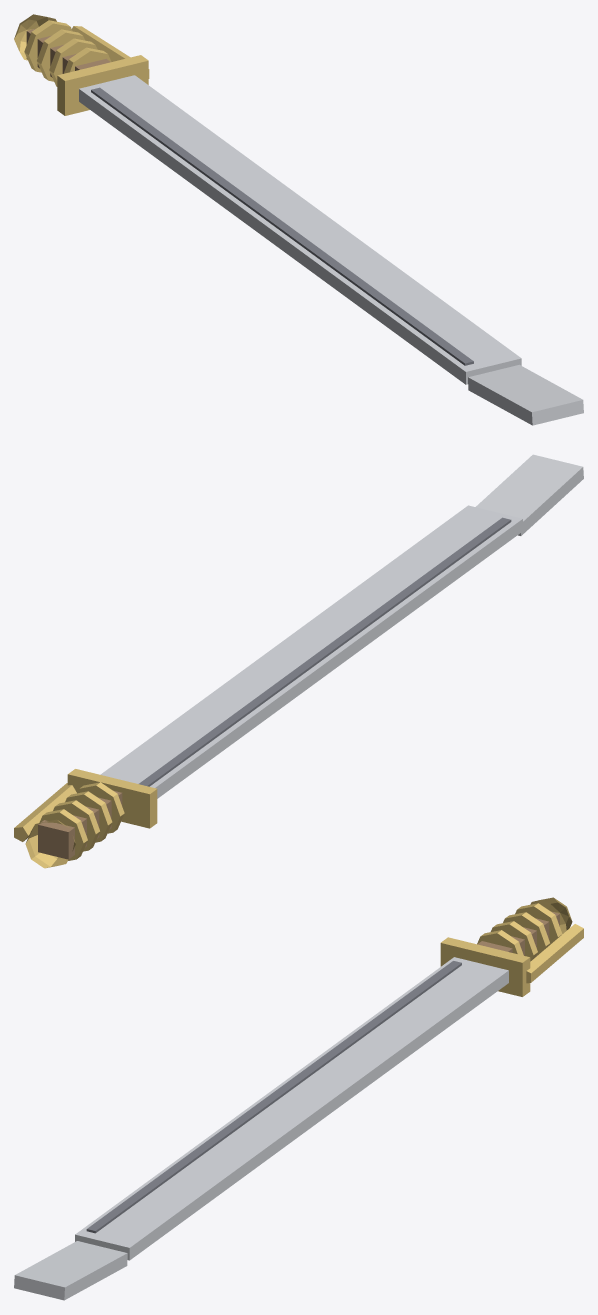
The model's file is legendary-warriors-kit-warrior-cutlass-a6f71d2e__39210.glb.
The picture shows the model from 3 angles, top to bottom: view 1: azimuth 30°, elevation 25°; view 2: azimuth 150°, elevation 25°; view 3: azimuth 330°, elevation 25°; orthographic projection. The views are drawn at different scales.
Visible parts, largest first — view 1: warrior-cutlass; view 2: warrior-cutlass; view 3: warrior-cutlass.
Boxes of the visible parts, x1,y1,x2,y2 form: warrior-cutlass: (14, 14, 583, 425); warrior-cutlass: (14, 454, 583, 868); warrior-cutlass: (14, 897, 583, 1300).
Size of the model in its own units: 0.0791 by 0.044 by 0.824.
